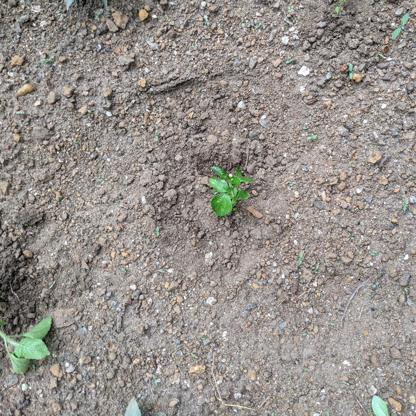weed: (206, 160, 261, 221), (3, 313, 56, 376)
